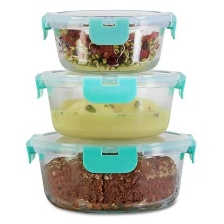plastic_box: (20, 126, 203, 220), (29, 61, 192, 144), (36, 2, 184, 77)
